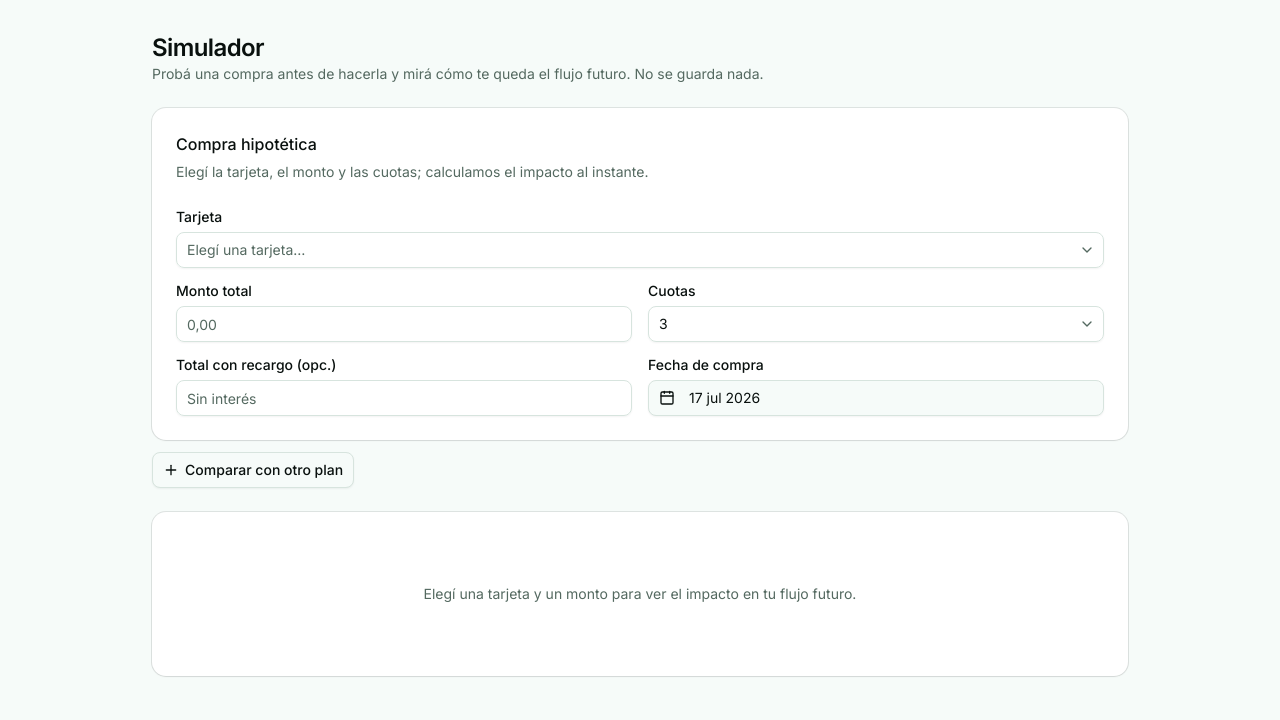
Test: SimulatorClient › activar 'Comparar' revela Plan A y Plan B
Click the button "Comparar con otro plan": click(253, 470) [152,452,354,488]
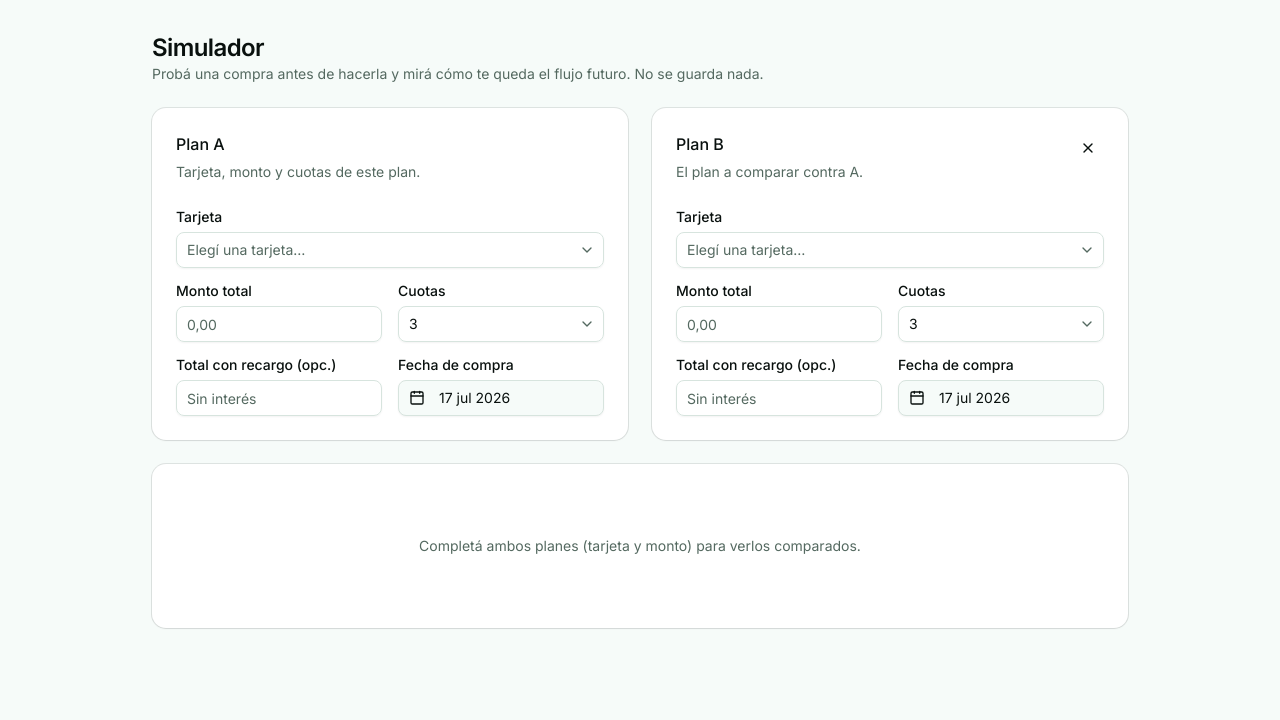
Expected: the text "Plan A" is shown, [176,134,225,154]
Expected: the text "Plan B" is shown, [676,134,724,154]
Expected: the text "Completá ambos planes" is shown, [419,537,861,554]
